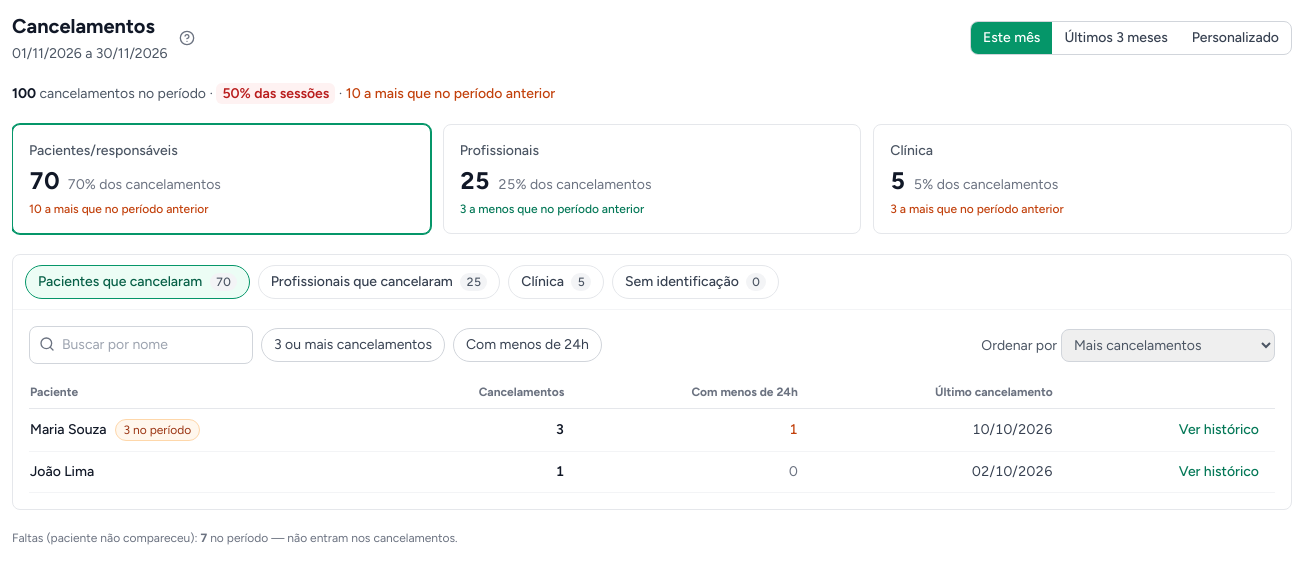
it: CancellationsReport › aba de profissionais não atribui a ele os pedidos de pacientes da agenda
Click the tab "Profissionais que cancelaram 25" at (379, 282), box 258,265 -> 500,299
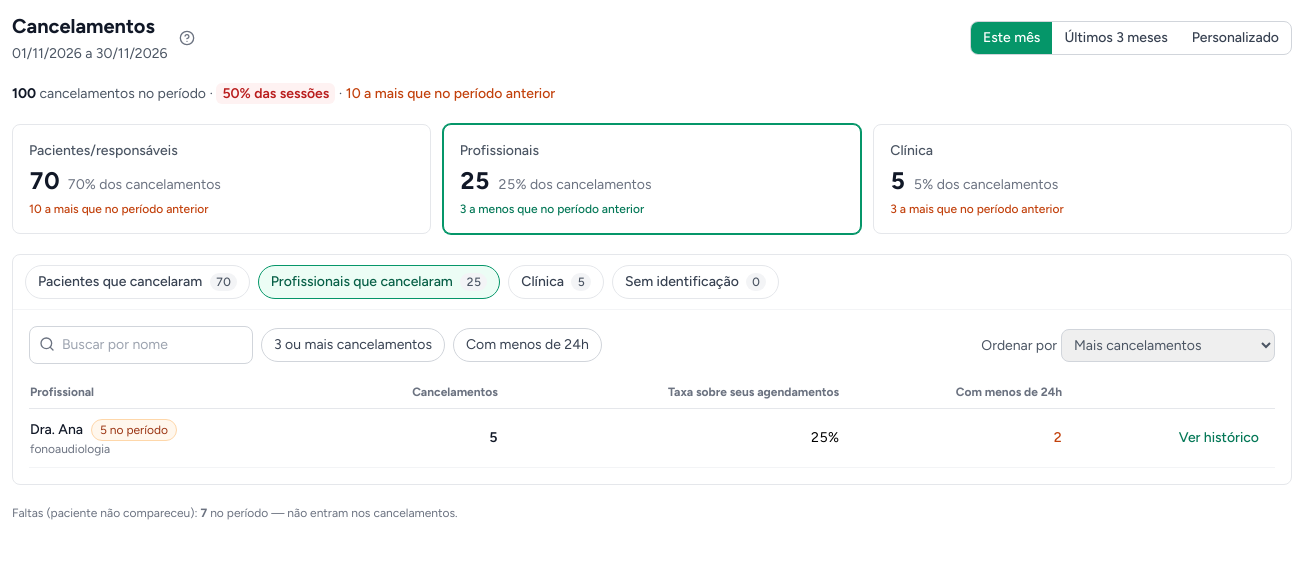
Result: the text "Dra. Ana" is shown at 30,420 -> 83,440
Result: the column heading "Taxa sobre seus agendamentos" is shown at 506,376 -> 847,408
Result: the text "25%" is shown at 506,408 -> 847,468
